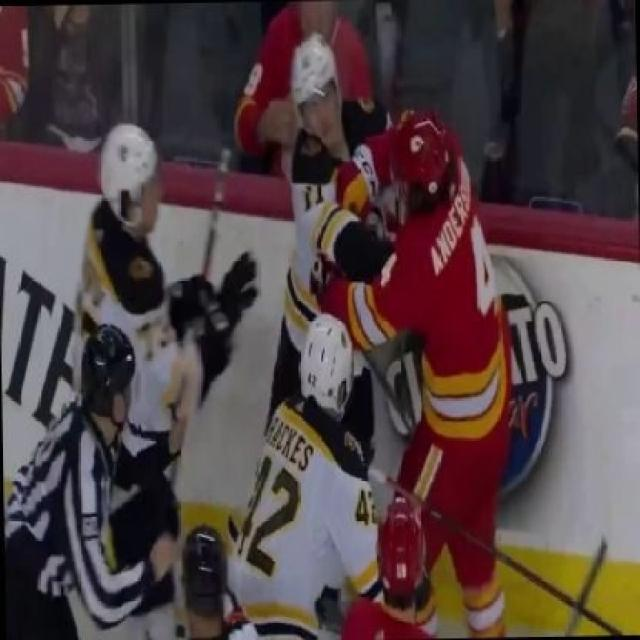fight: (259, 23, 526, 640)
non-fight: (68, 111, 266, 640), (0, 317, 175, 640), (226, 304, 394, 640)
